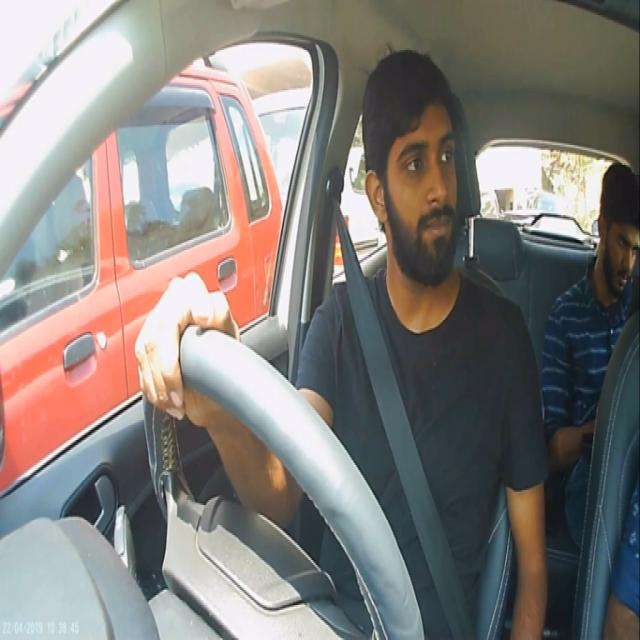seatbelt: (328, 290, 528, 627)
